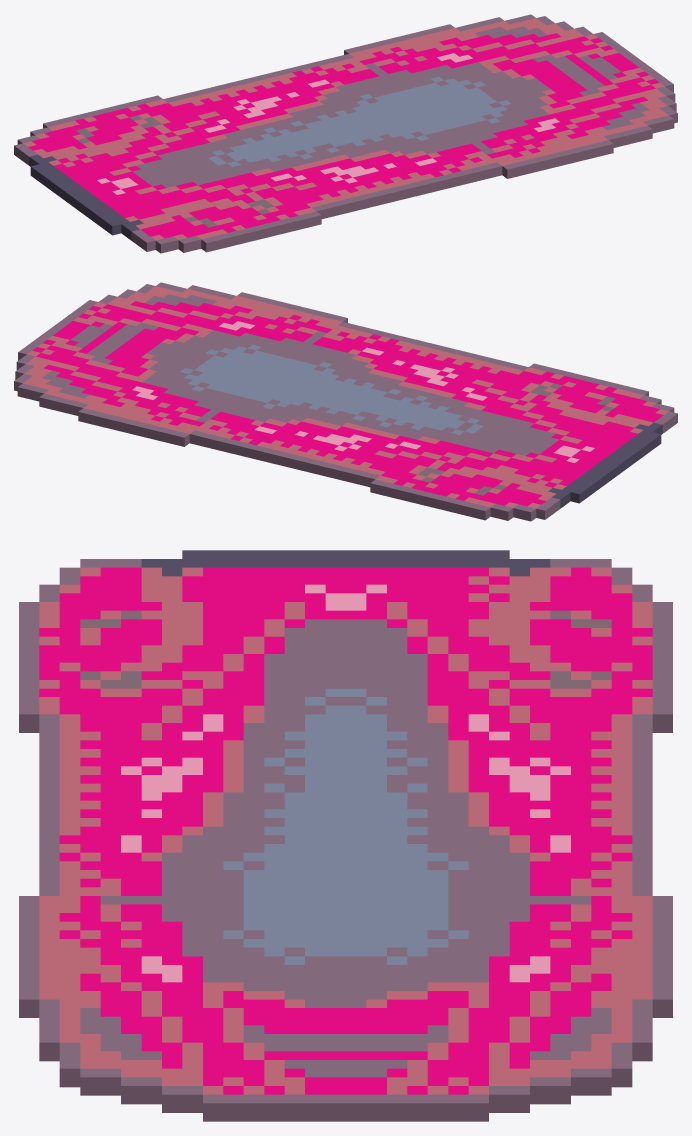
File: cocheArriba.fbx
3 renders of one model, top to bottom at view 1: azimuth 30°, elevation 25°; view 2: azimuth 150°, elevation 25°; view 3: azimuth 270°, elevation 25°, orthographic. The views are drawn at different scales.
Parts seen in each view (by area): view 1: Coche2Top.png; view 2: Coche2Top.png; view 3: Coche2Top.png.
Part boxes in pixels (x1=…): Coche2Top.png: x1=14, y1=14, x2=677, y2=253; Coche2Top.png: x1=14, y1=282, x2=677, y2=521; Coche2Top.png: x1=19, y1=550, x2=672, y2=1121.
Bounding box in the file's own units: 6400 × 100 × 3200.
